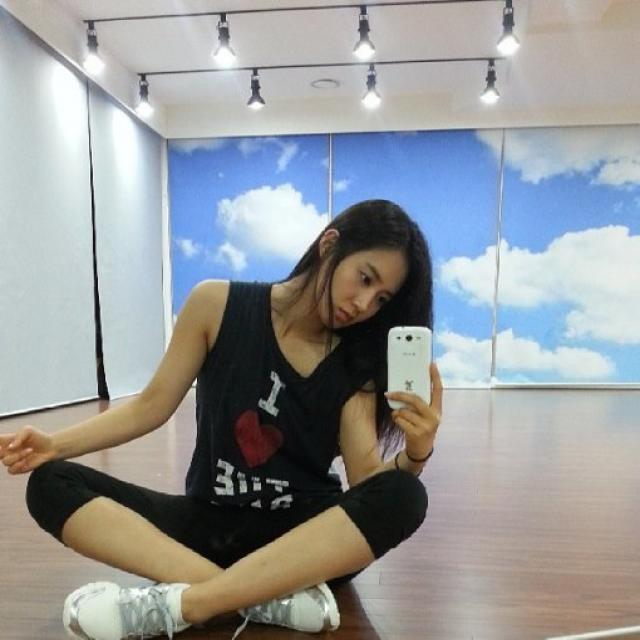phone: (388, 326, 430, 409)
